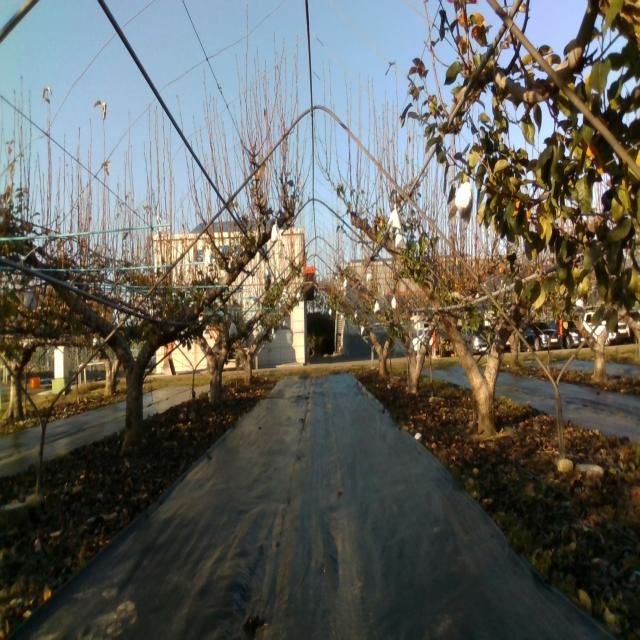pearbags: (456, 180, 473, 222), (388, 204, 402, 230), (394, 228, 407, 250), (271, 220, 282, 242), (205, 248, 216, 267)
